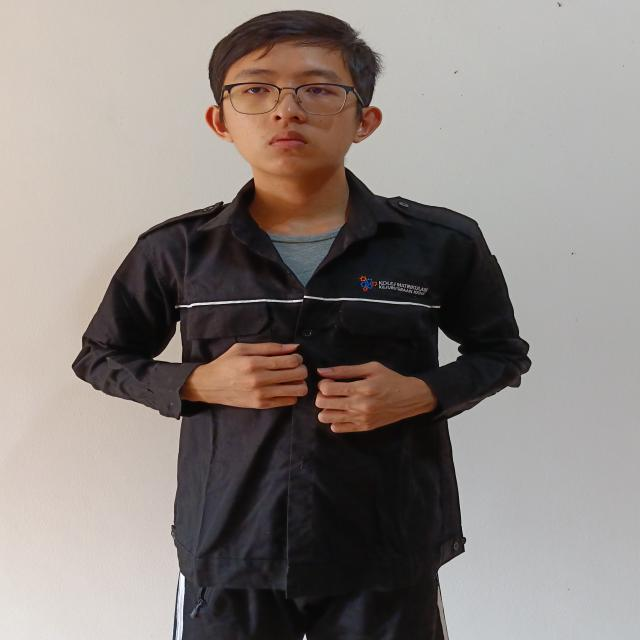person_with_labcoat: (73, 11, 530, 640)
